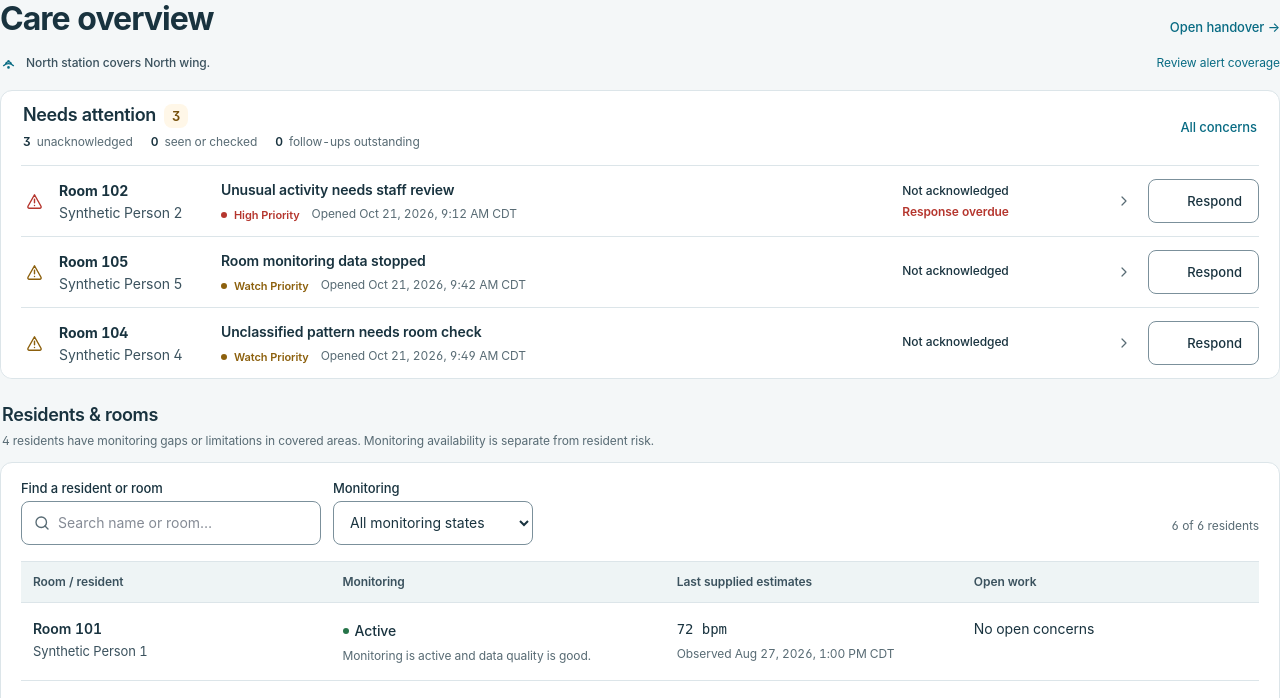
care workspace › filters the roster without hiding urgent concerns
The width and height of the screenshot is (1280, 698).
Expected: the heading "Needs attention 3" is shown, [23,104,188,128]
Type "no matching resident" into the search field labelled "Find a resident or room". click: (171, 523)
box: [21,501,321,545]
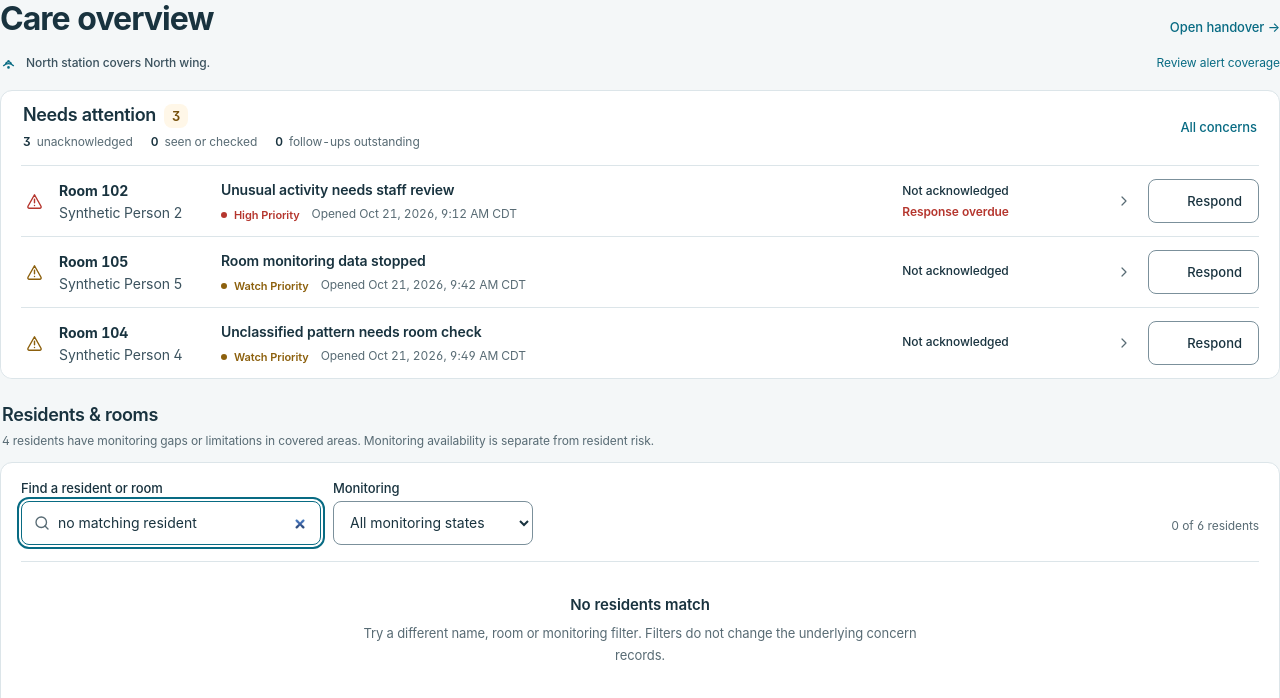
Expected: the heading "Unusual activity needs staff review" is shown, [221,181,454,198]
Result: the heading "No residents match" is shown at [570,595,710,614]
